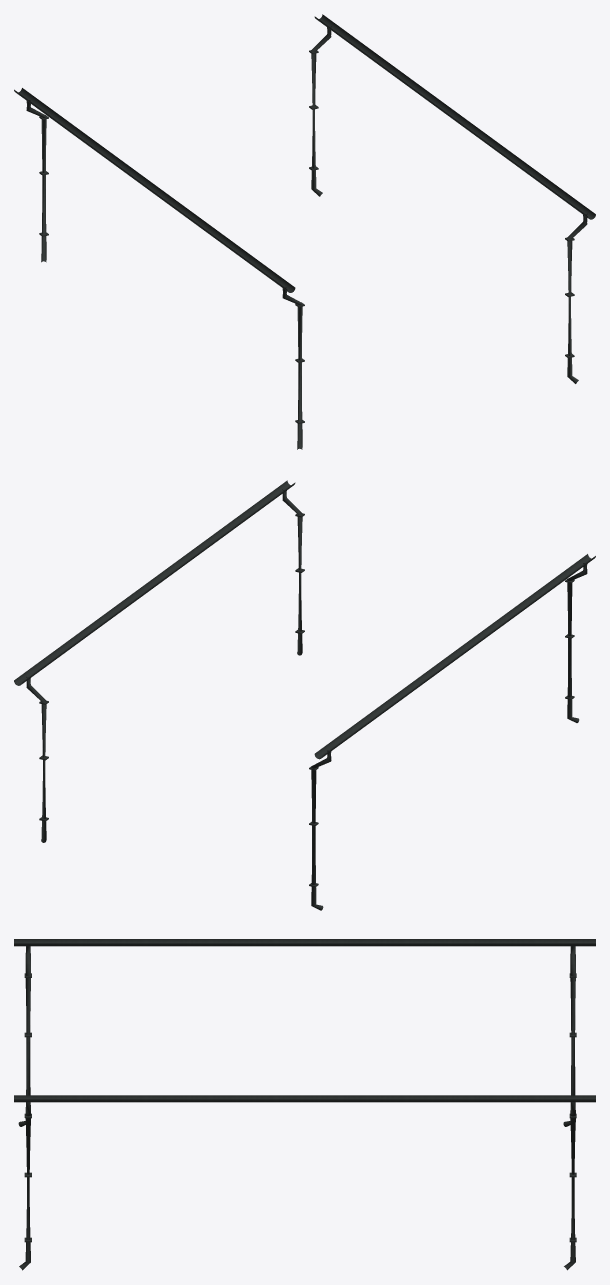
The model's file is cabin_gutters.glb.
3 views of the same model, one above another, from view 1: azimuth 30°, elevation 25°; view 2: azimuth 150°, elevation 25°; view 3: azimuth 270°, elevation 25° (orthographic). The views are drawn at different scales.
Visible parts, largest first — view 1: Gutters; view 2: Gutters; view 3: Gutters.
Boxes of the visible parts, x1=… form: Gutters: x1=14, y1=14, x2=595, y2=449; Gutters: x1=14, y1=480, x2=595, y2=910; Gutters: x1=14, y1=939, x2=595, y2=1270.
Bounding box in the file's own units: 5.81 × 3.04 × 8.92.
Materials: 1 (1 with a texture image).
